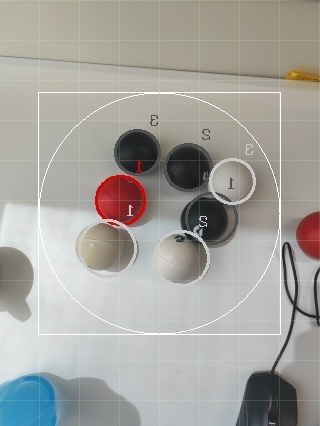Pelota blanca: (74, 220, 140, 275), (151, 230, 212, 286), (74, 377, 143, 425), (0, 244, 36, 323), (207, 156, 257, 206)
Pelota negra: (236, 371, 300, 425), (181, 193, 238, 248), (0, 371, 57, 425), (165, 142, 214, 192), (114, 126, 161, 174)
Pelota roja: (93, 172, 148, 224), (295, 209, 320, 262)
